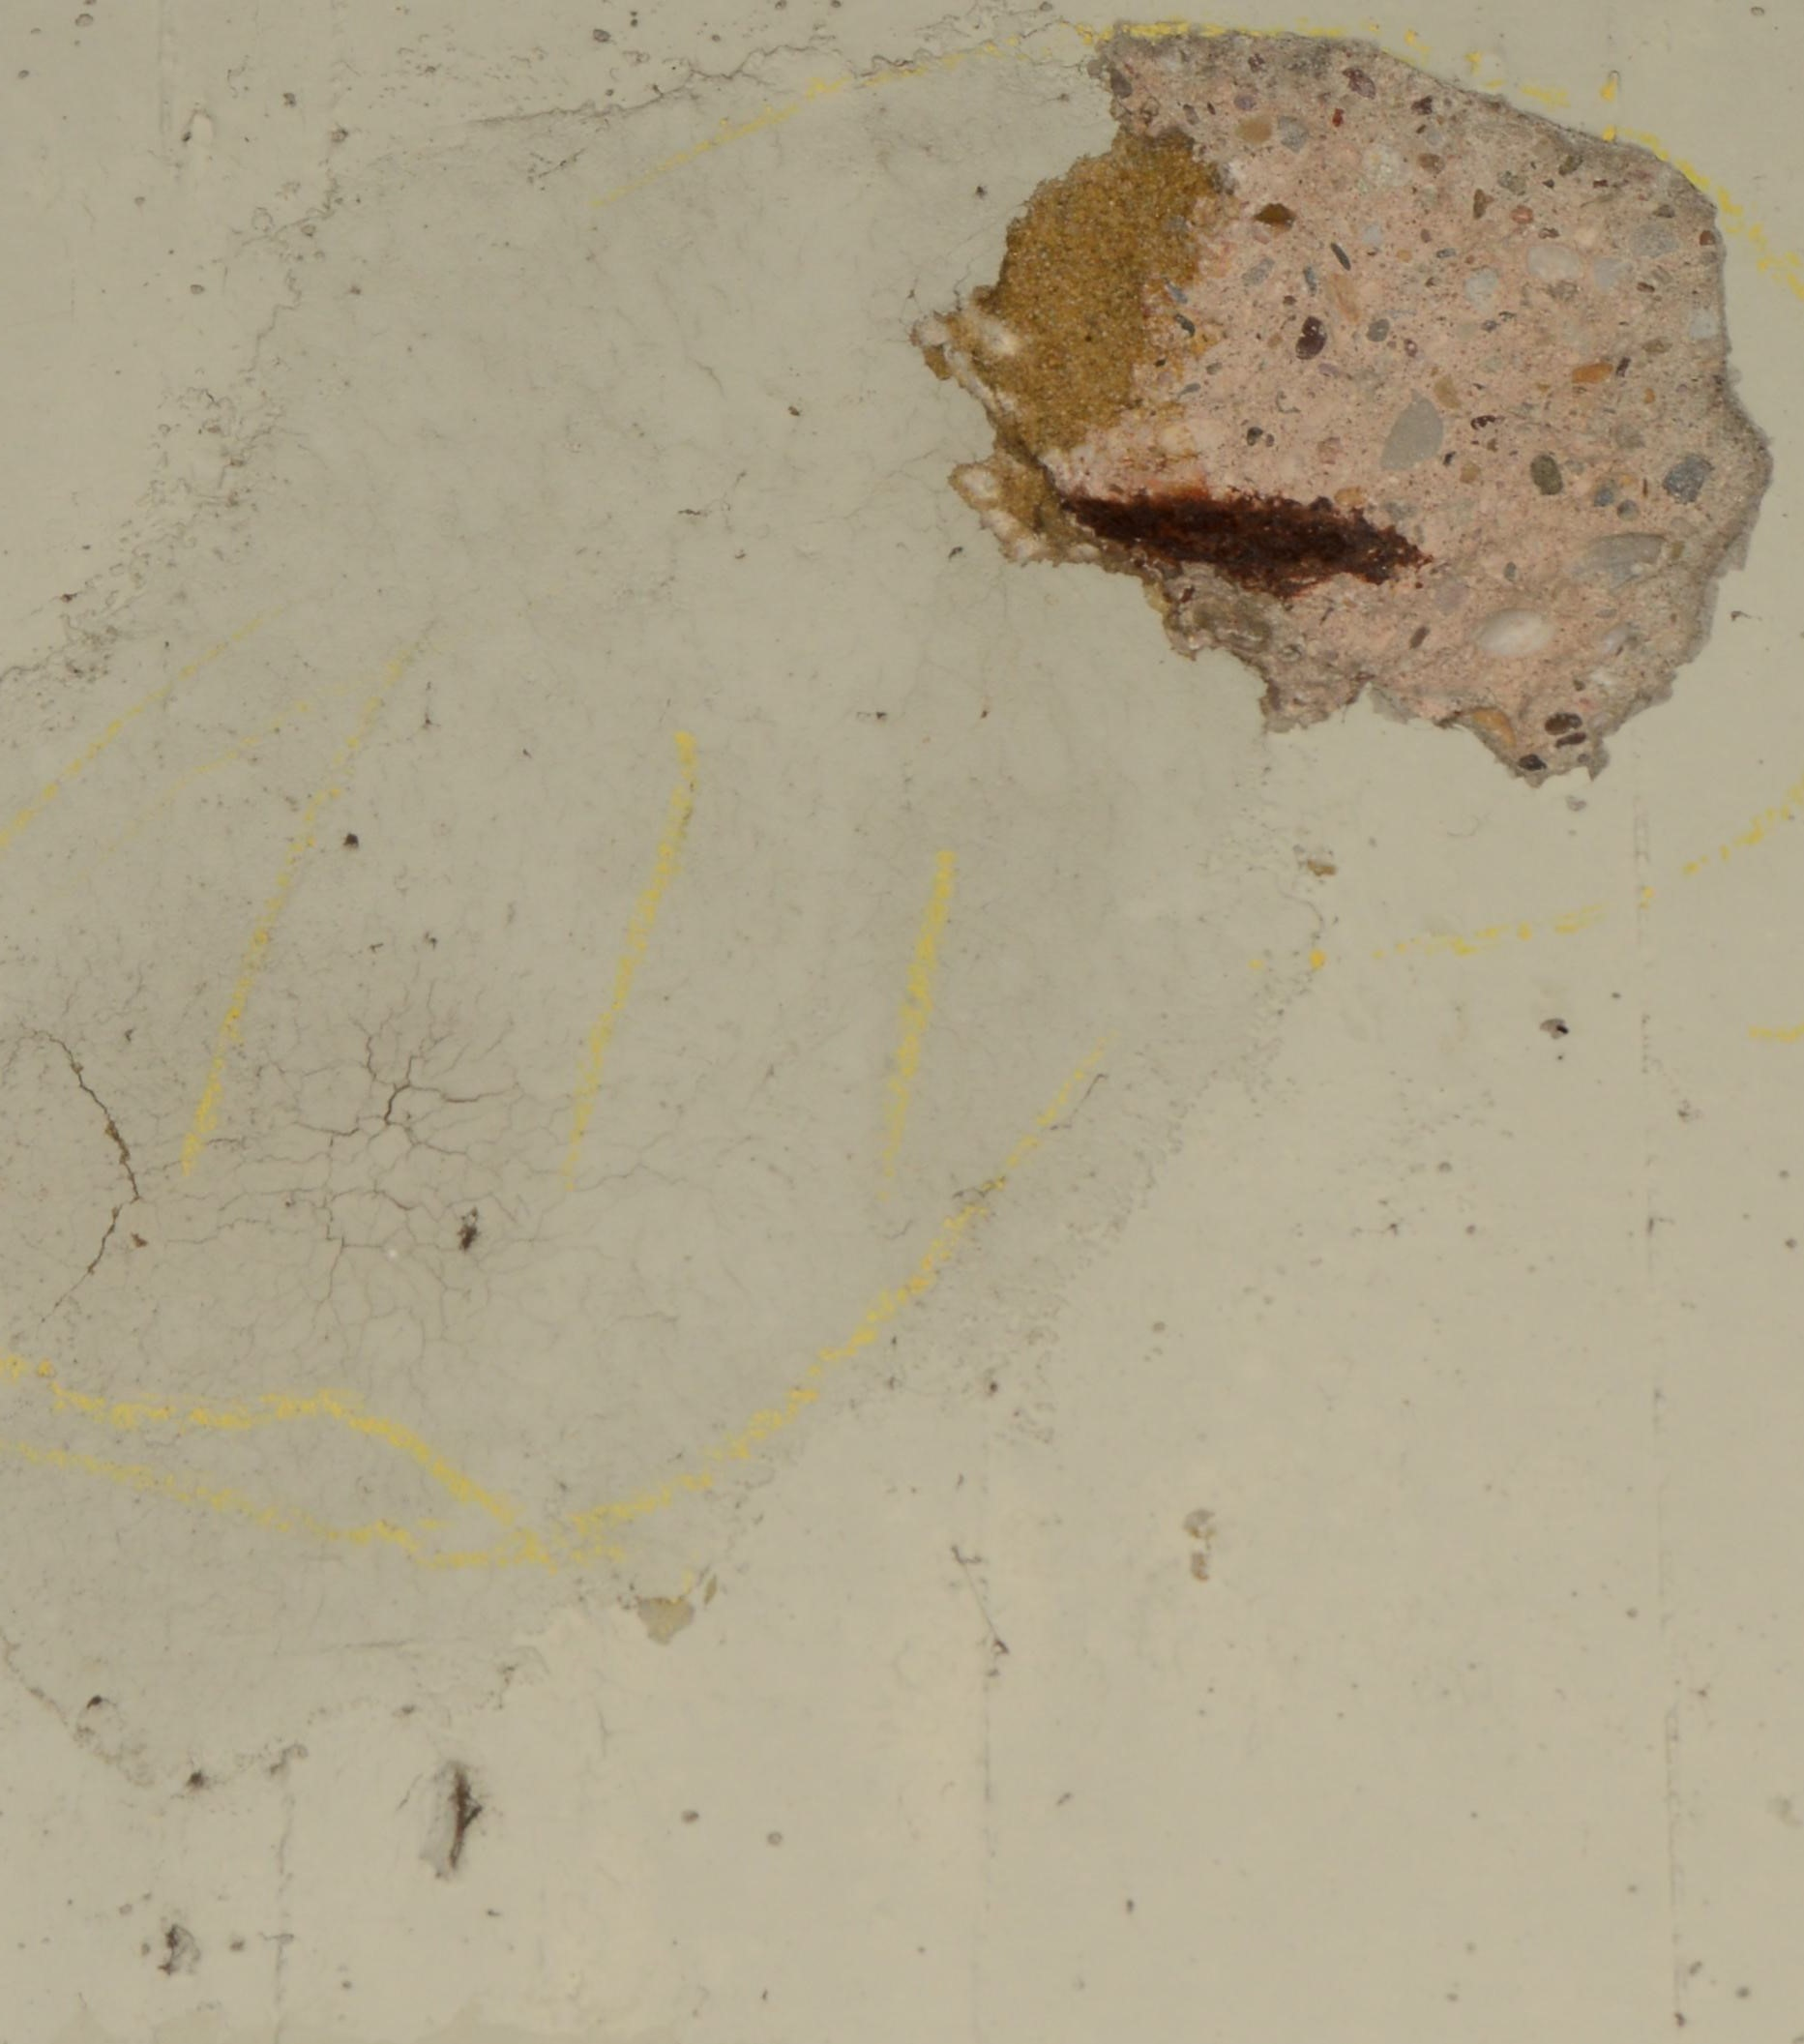Exposed reinforcement: (1059, 491, 1435, 604)
Spalling: (909, 24, 1774, 789)
